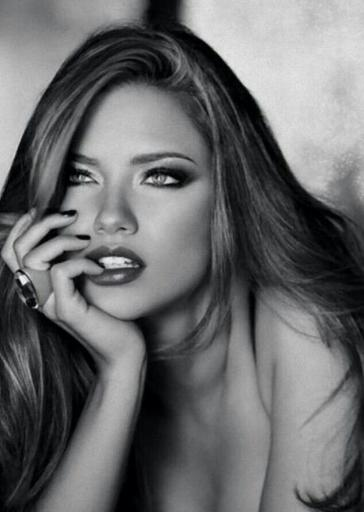left_eye: (139, 168, 194, 199)
left_lip_corner: (138, 257, 151, 279)
right_eye: (66, 172, 101, 191)
